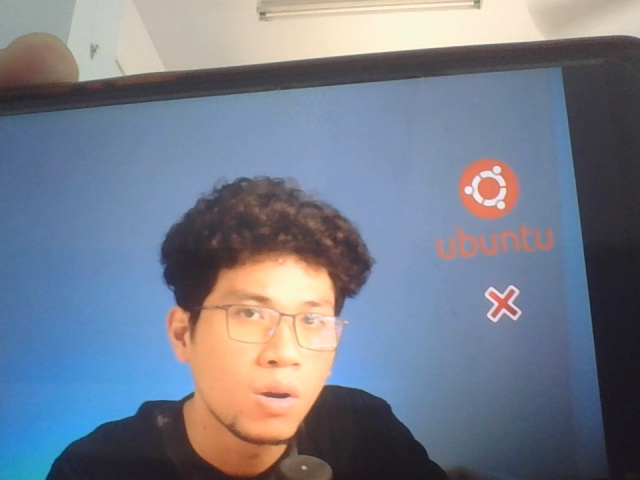fake: (164, 179, 358, 454)
